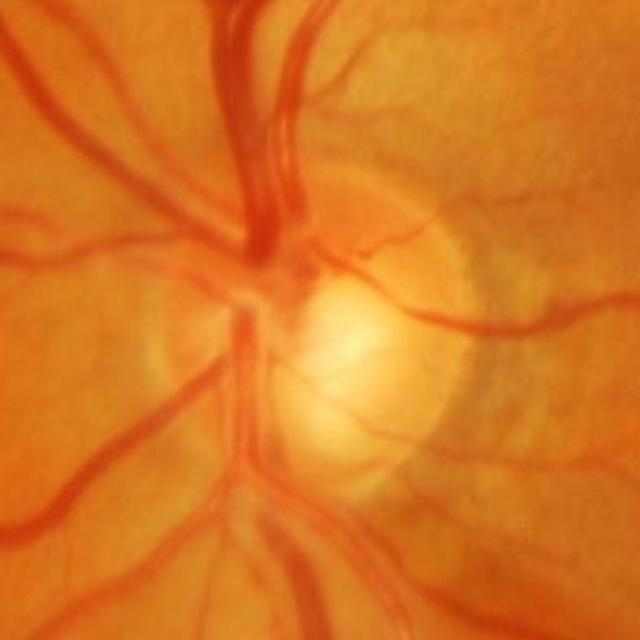OC: (203, 268, 382, 456)
OD: (145, 153, 478, 510)
